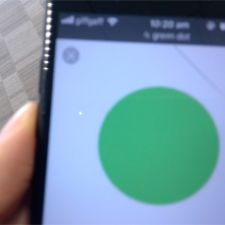focus: (80, 74, 225, 205)
